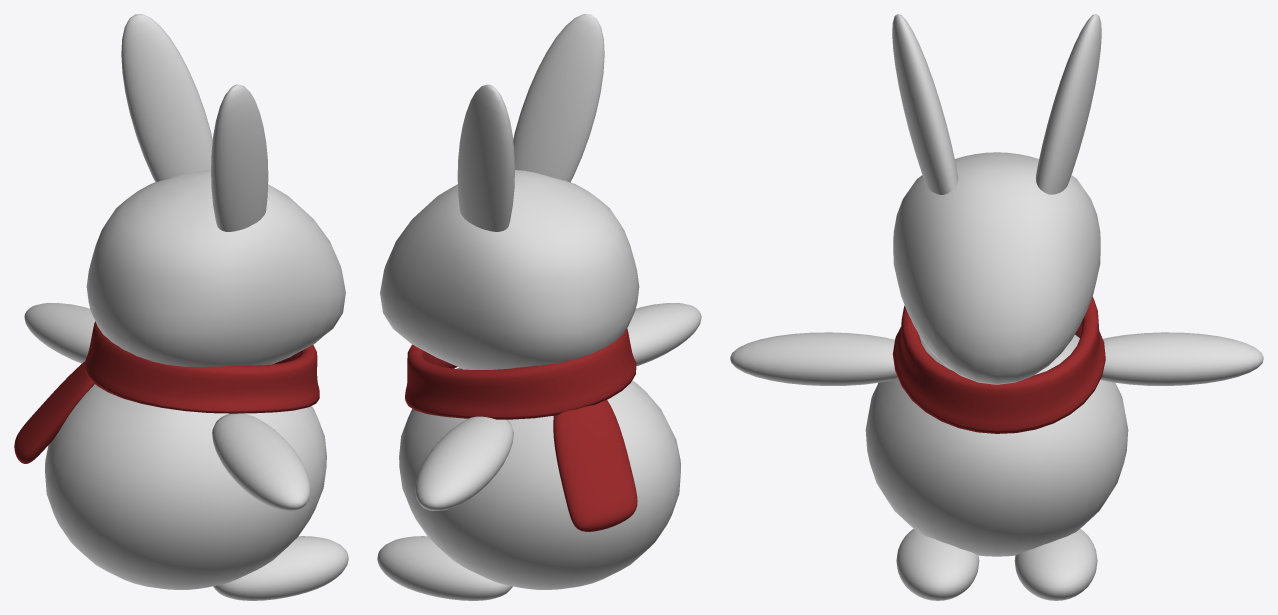
The model's file is rabbit.fbx.
3 views of the same model, side by side, from view 1: azimuth 30°, elevation 25°; view 2: azimuth 150°, elevation 25°; view 3: azimuth 270°, elevation 25° (orthographic).
Visible parts, largest first — view 1: body.002, oreja, bufanda, body.001, feet; view 2: body.002, bufanda, oreja, body.001, feet; view 3: body.002, body.001, bufanda, oreja, feet.
Boxes of the visible parts, x1=… form: body.002: x1=45, y1=169, x2=345, y2=589; oreja: x1=121, y1=14, x2=268, y2=231; bufanda: x1=14, y1=321, x2=319, y2=463; body.001: x1=24, y1=303, x2=310, y2=510; feet: x1=213, y1=536, x2=348, y2=600; body.002: x1=380, y1=170, x2=680, y2=589; bufanda: x1=405, y1=328, x2=637, y2=531; oreja: x1=457, y1=14, x2=604, y2=231; body.001: x1=415, y1=303, x2=701, y2=510; feet: x1=377, y1=536, x2=512, y2=600; body.002: x1=865, y1=152, x2=1128, y2=556; body.001: x1=730, y1=332, x2=1263, y2=385; bufanda: x1=892, y1=297, x2=1105, y2=433; oreja: x1=892, y1=14, x2=1101, y2=194; feet: x1=896, y1=528, x2=1097, y2=600.
Bounding box in the file's own units: 613 × 1007 × 1110.
